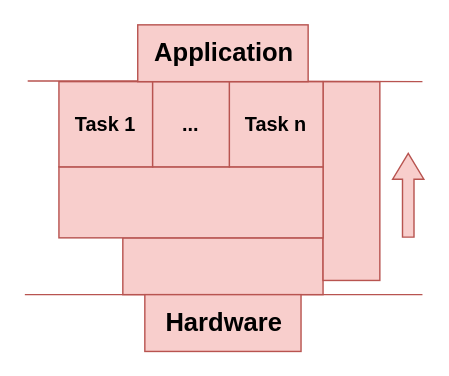
Image size: 449x376. Some labels were removed from this diagram. Here are the shapes that lost their labels. From the top down, the centre of each, then its label:
the point at 351,180: L i b r a r i e s
the point at 190,201: Application modules
the point at 222,265: Drivers
